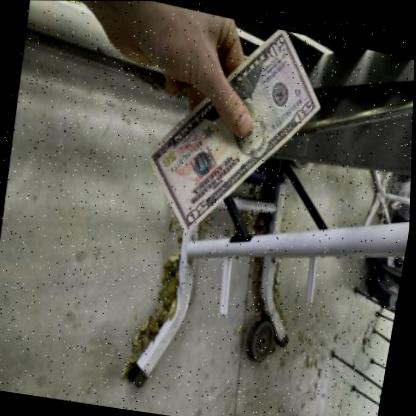dollar_front: (144, 24, 320, 232)
